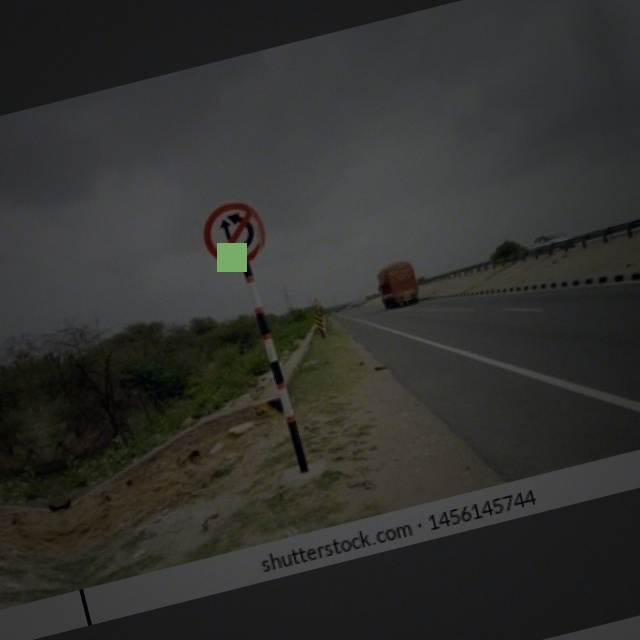Overtaking_Prohibited: (198, 197, 274, 274)
